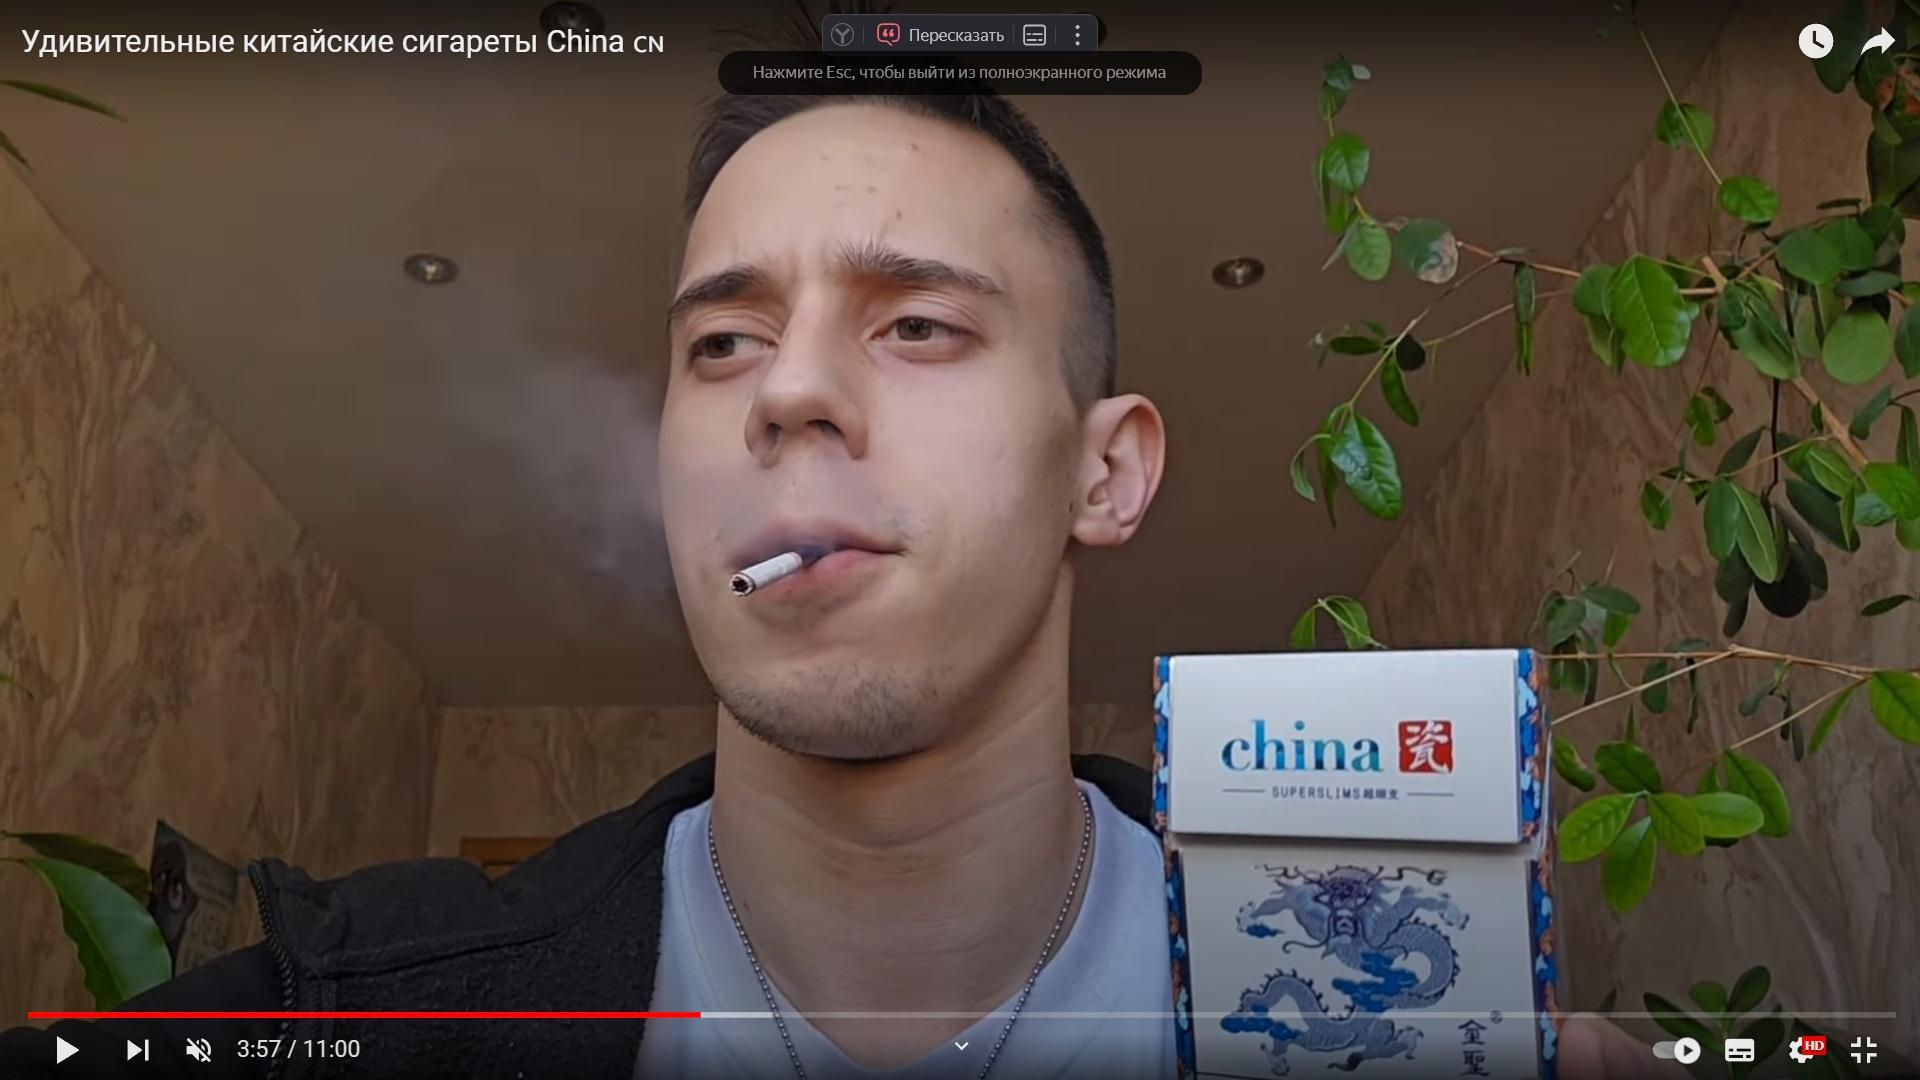cigarette: (728, 549, 828, 597)
